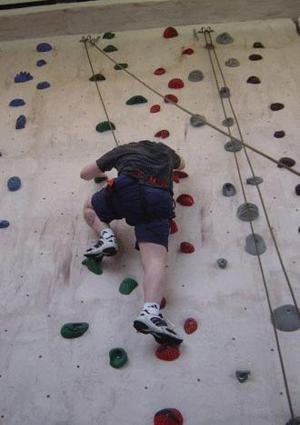person: (80, 141, 186, 346)
